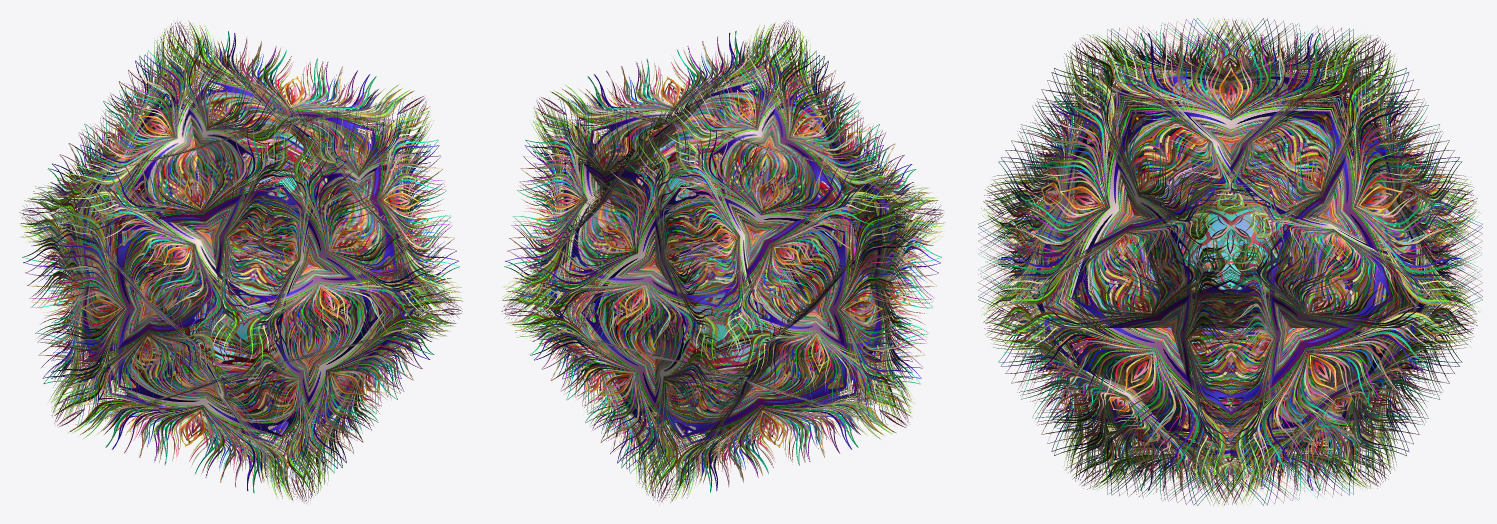
The model's file is GreatDodecahedron13.obj.
3 renders of one model, left to right at view 1: azimuth 30°, elevation 25°; view 2: azimuth 150°, elevation 25°; view 3: azimuth 270°, elevation 25°, orthographic. The views are drawn at different scales.
Bounding box in the file's own units: 1.62 × 1.62 × 1.62.
1 material, 1 textured.
